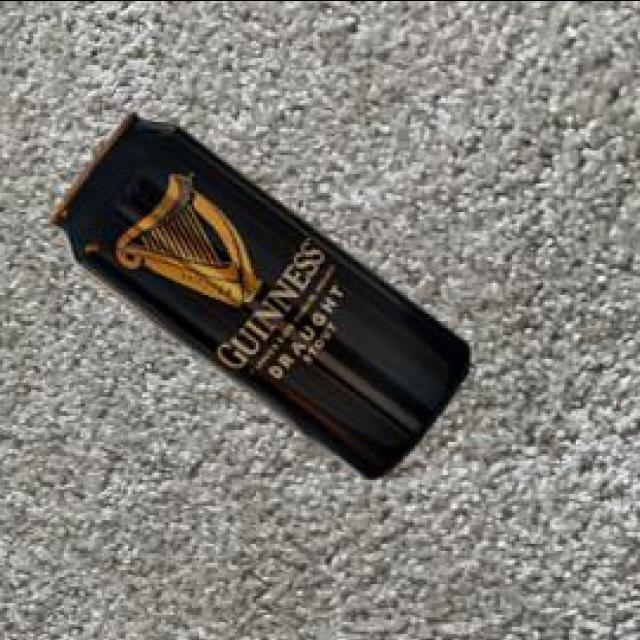logam: (46, 115, 466, 482)
